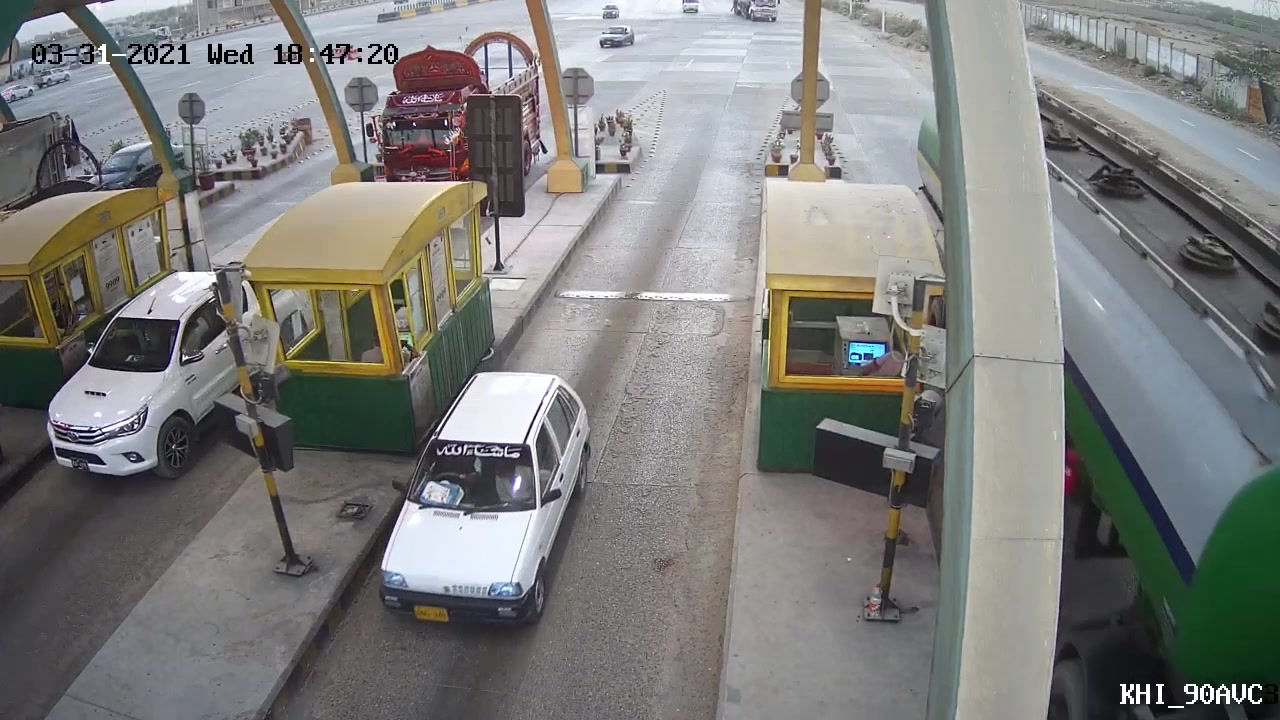F1: (377, 362, 592, 640)
